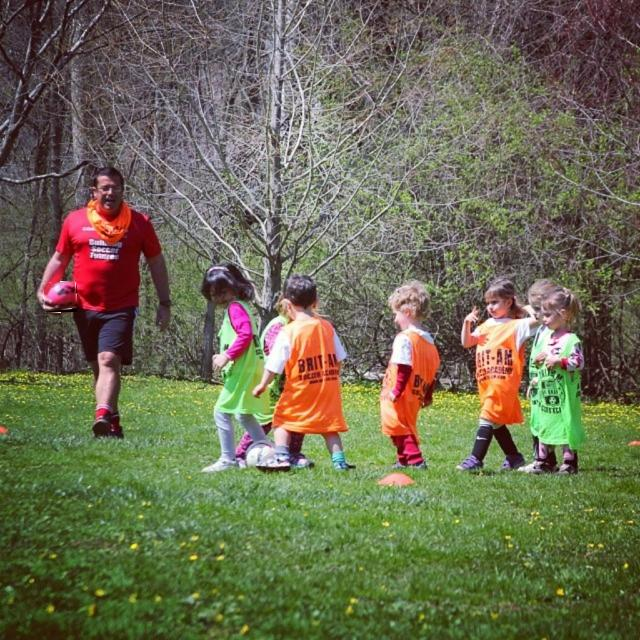Football: (43, 282, 77, 312)
